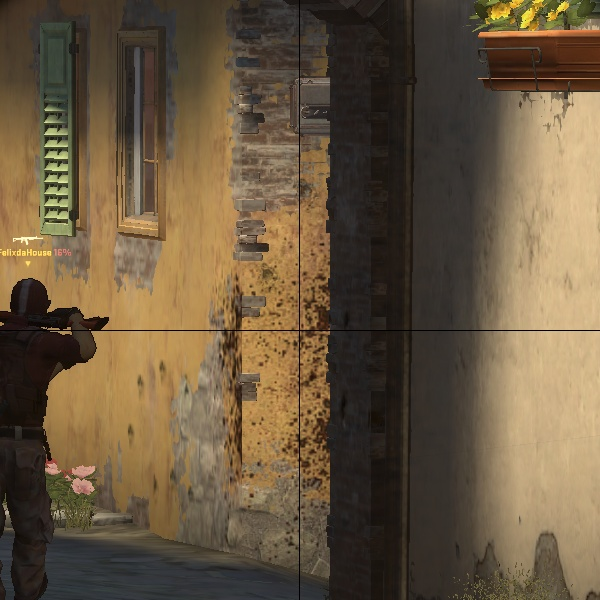t_body: (4, 232, 126, 592)
